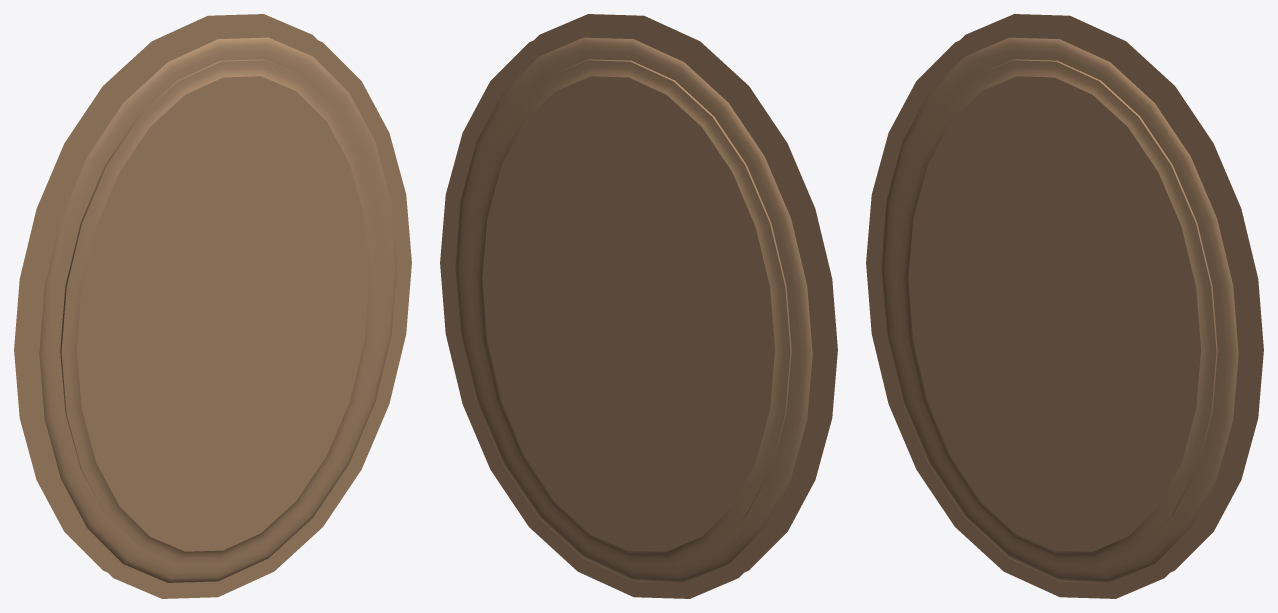
Rendered from FairyTale336.gltf.
3 views of the same model, side by side, from view 1: azimuth 30°, elevation 25°; view 2: azimuth 150°, elevation 25°; view 3: azimuth 330°, elevation 25° (orthographic).
Visible parts, largest first — view 1: Tavern_Sign; view 2: Tavern_Sign; view 3: Tavern_Sign.
Boxes of the visible parts, x1,y1,x2,y2 form: Tavern_Sign: [14, 14, 411, 598]; Tavern_Sign: [440, 14, 837, 598]; Tavern_Sign: [866, 14, 1263, 598].
Size of the model in its own units: 0.5567 by 0.7878 by 0.0511.
